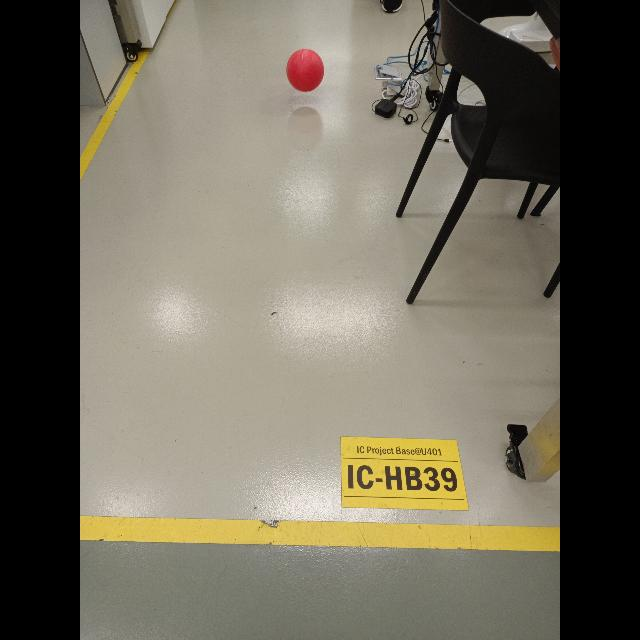R: (286, 48, 324, 92)
